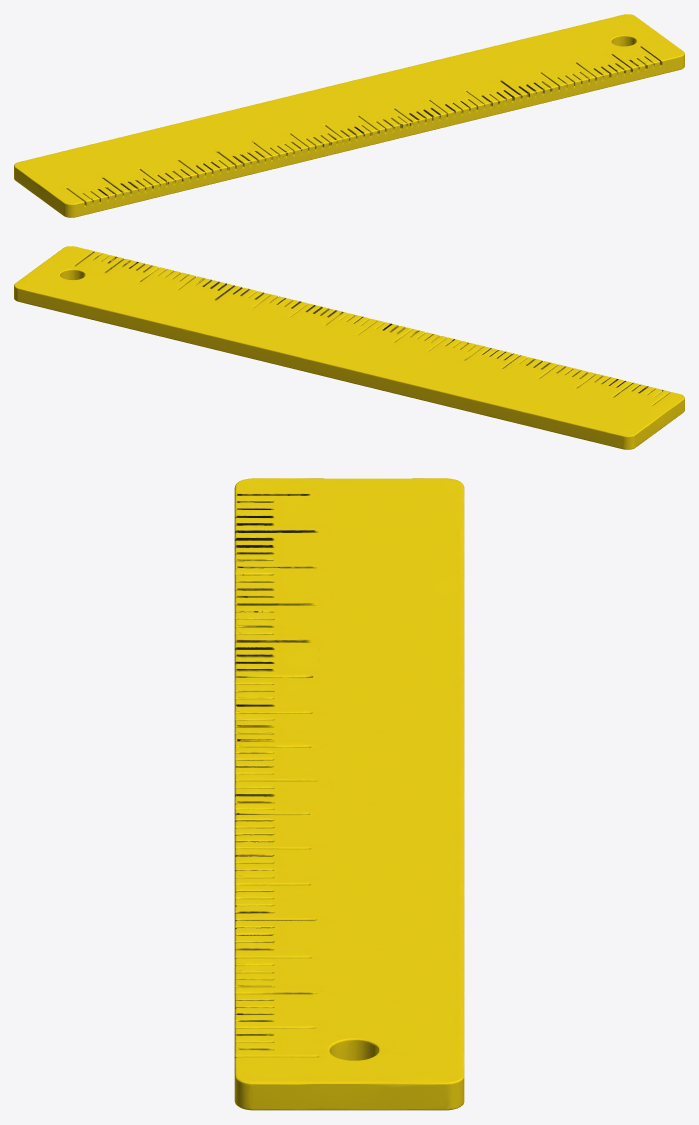
File: yellow_ruler_4k.glb
The picture shows the model from 3 angles, top to bottom: view 1: azimuth 30°, elevation 25°; view 2: azimuth 150°, elevation 25°; view 3: azimuth 270°, elevation 25°; orthographic projection. The views are drawn at different scales.
Bounding box in the file's own units: 1.9 × 0.0411 × 0.3055.
1 material, 1 textured.
